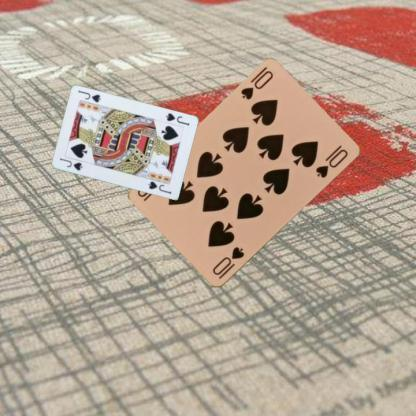10s: (210, 245, 246, 280), (238, 68, 275, 102)
Js: (57, 154, 83, 172), (163, 110, 190, 127)
